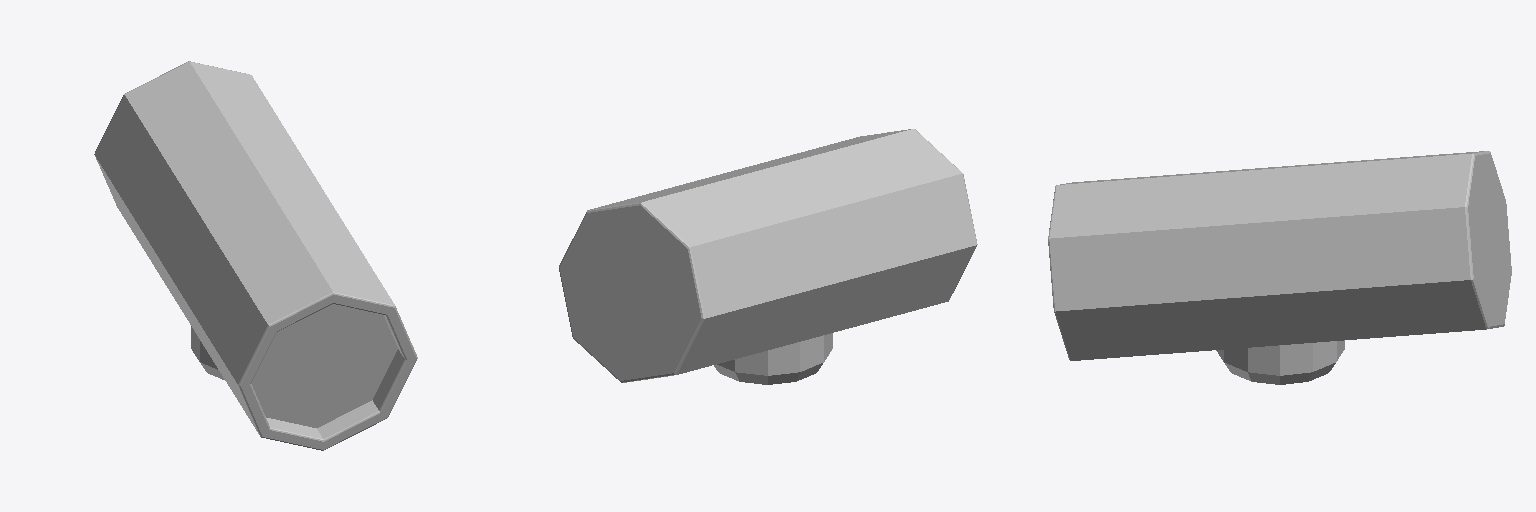
File: camara.obj
The picture shows the model from 3 angles: view 1: azimuth 30°, elevation 25°; view 2: azimuth 150°, elevation 25°; view 3: azimuth 270°, elevation 25°; orthographic projection.
Visible parts, largest first — view 1: camara:Mesh; view 2: camara:Mesh; view 3: camara:Mesh.
Boxes of the visible parts, x1,y1,x2,y2 form: camara:Mesh: [94, 61, 417, 450]; camara:Mesh: [559, 129, 977, 384]; camara:Mesh: [1048, 151, 1511, 384].
Size of the model in its own units: 0.6795 by 0.6686 by 1.2.